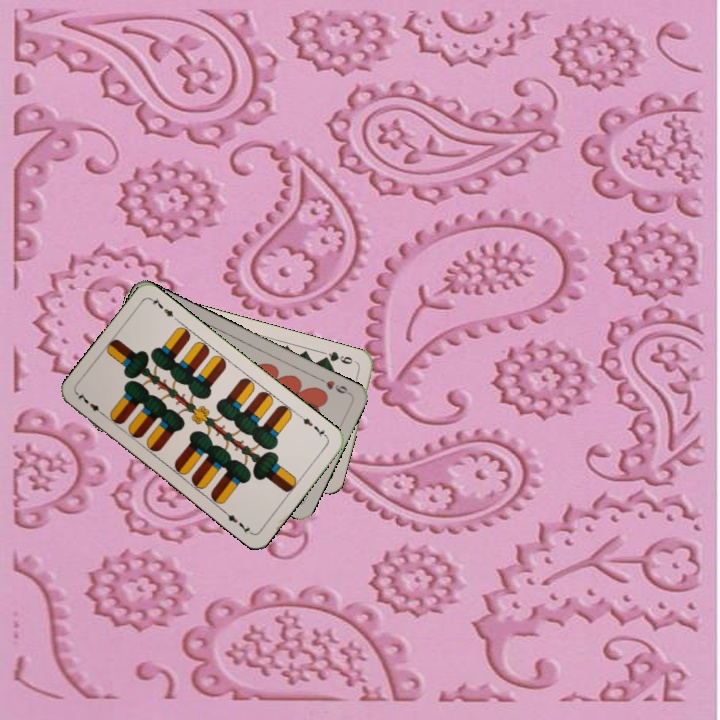E7: (73, 388, 108, 419), (296, 411, 330, 441)
G9: (319, 347, 360, 367)
H9: (315, 374, 353, 397)
